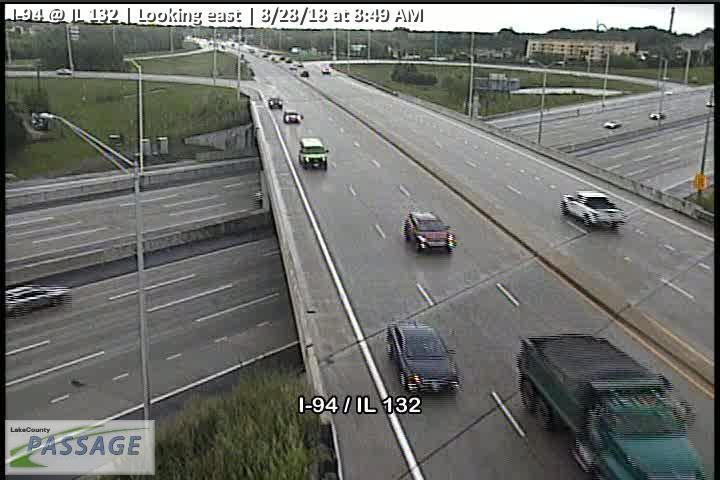SUV: (406, 212, 456, 254), (298, 137, 328, 168)
Sedan: (386, 321, 460, 395), (6, 286, 77, 320), (282, 110, 302, 123), (266, 95, 282, 108), (603, 119, 623, 129), (648, 111, 665, 118)
Truck: (516, 332, 707, 480), (557, 191, 625, 228)
